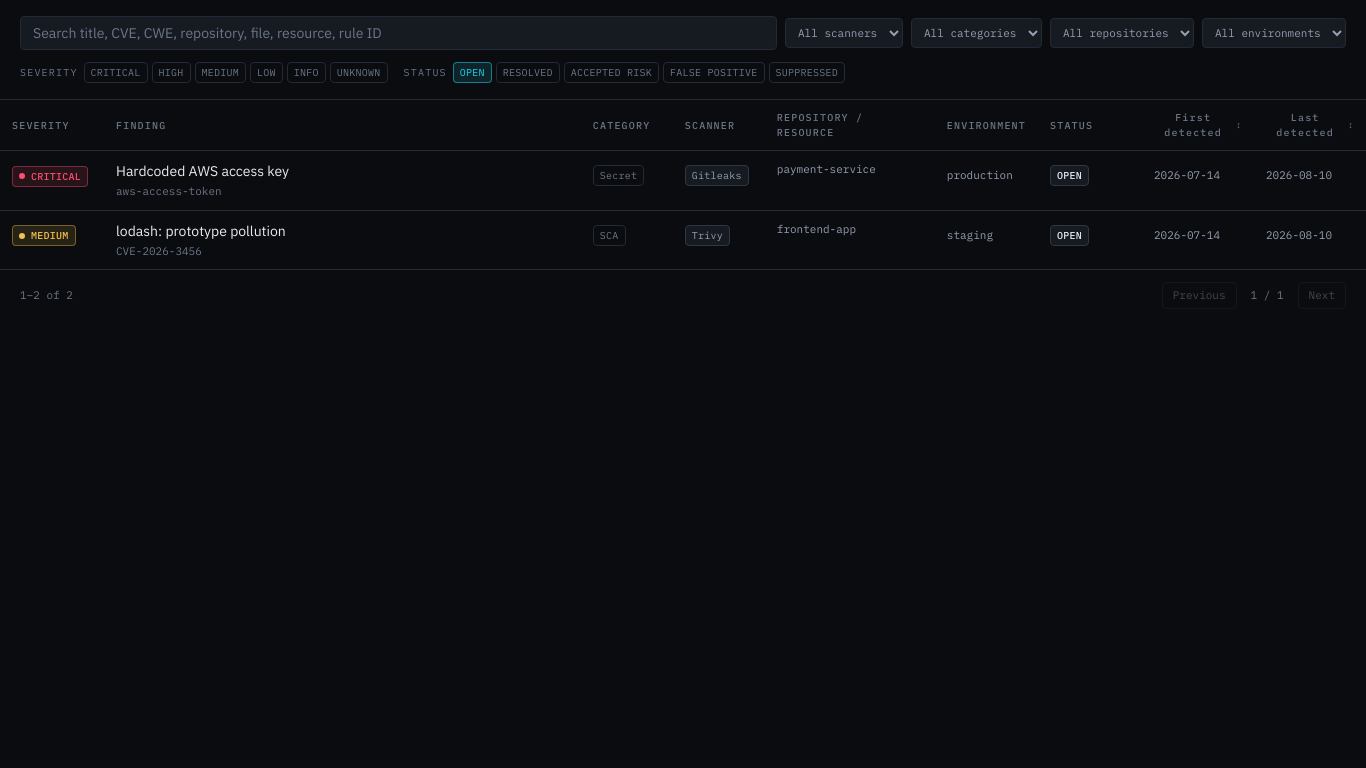
Test: FindingsTable detail drawer › closes on Escape
Click the text "Hardcoded AWS access key" at (203,171), box [116,162,289,180]
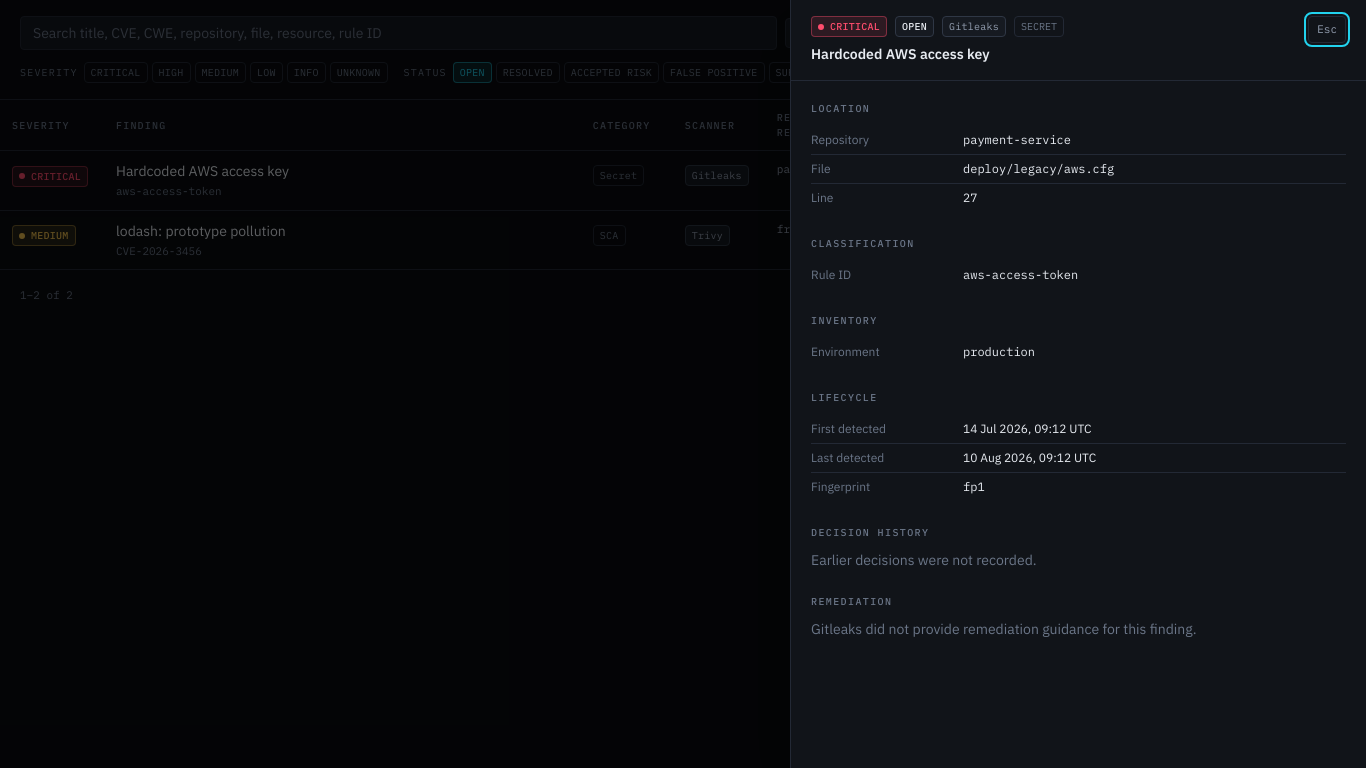
Check: the dialog is shown, box [790,0,1365,767]
Press Escape
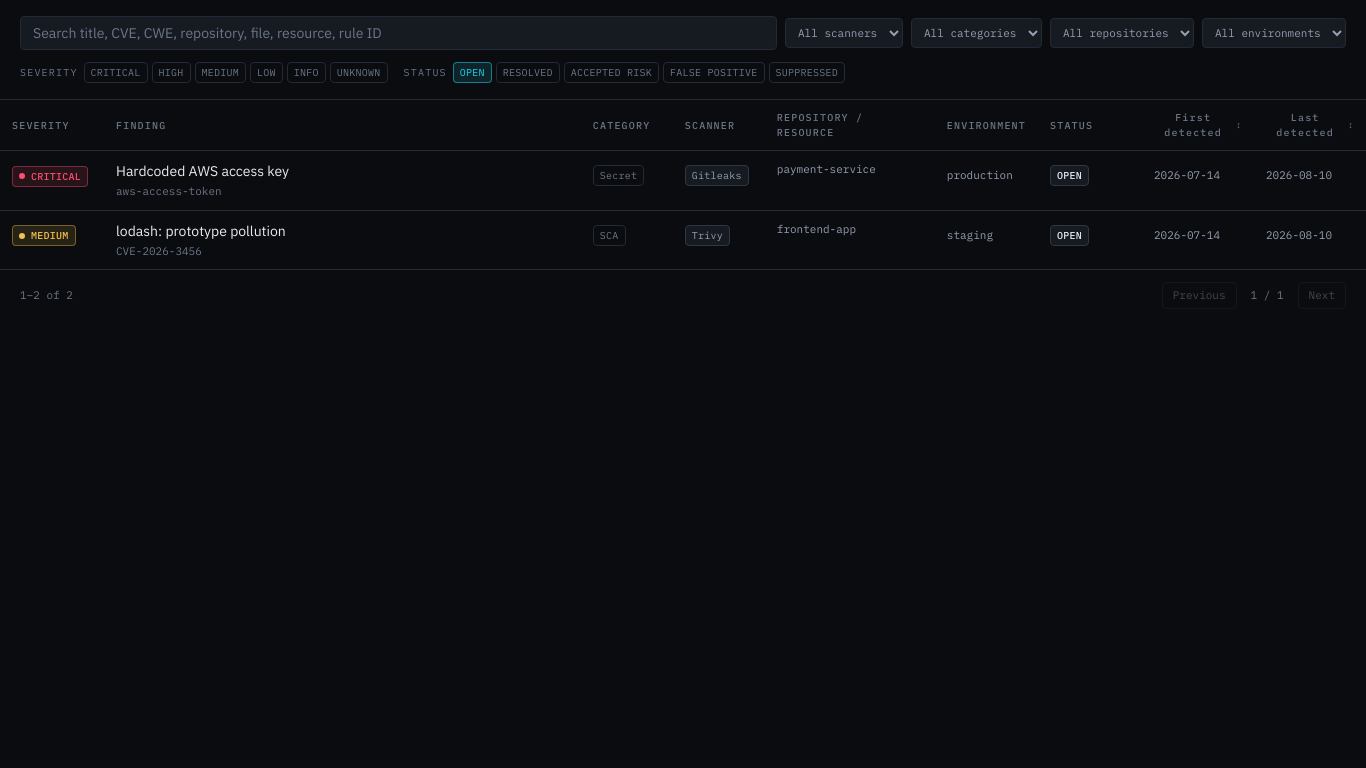
Check: the dialog is gone
